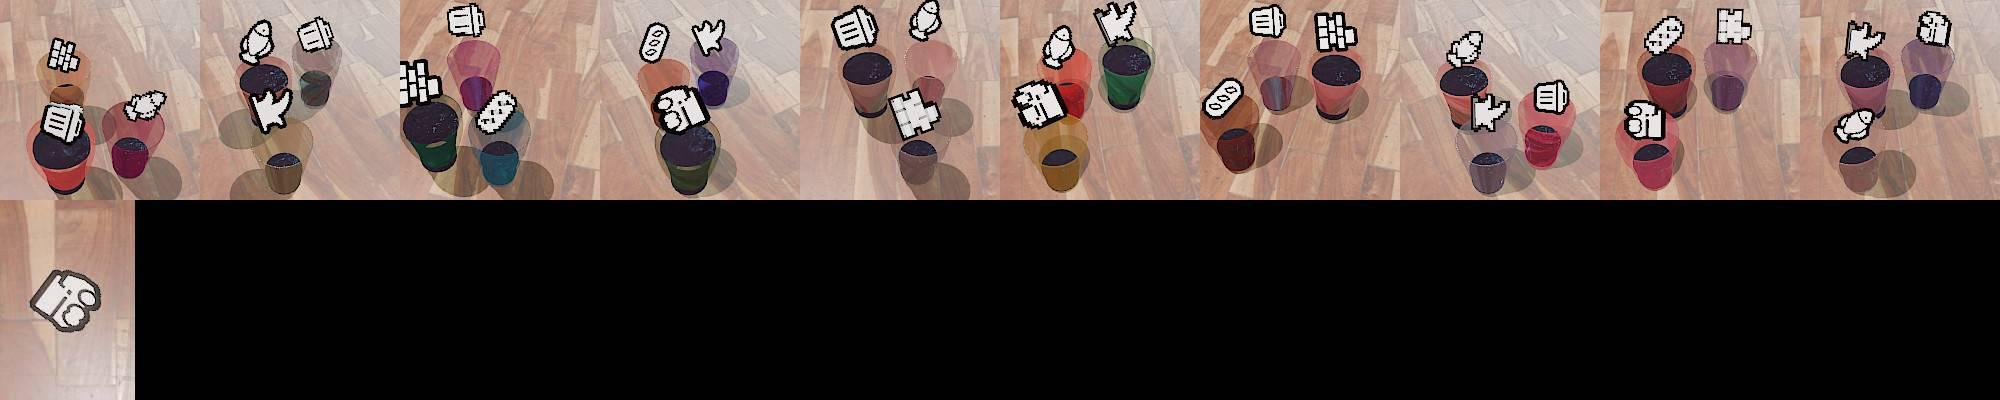icon: (29, 268, 102, 334), (652, 84, 712, 136), (886, 88, 943, 140), (1011, 79, 1066, 130), (830, 5, 879, 52), (399, 57, 444, 108), (247, 85, 293, 134), (41, 99, 87, 145), (1093, 1, 1138, 47), (474, 88, 518, 135), (1315, 9, 1357, 52), (1203, 76, 1245, 118), (1644, 14, 1686, 56), (1469, 90, 1511, 132), (1625, 98, 1666, 140), (239, 19, 274, 66), (1844, 19, 1885, 59), (1834, 107, 1878, 143), (1041, 24, 1075, 69), (445, 3, 486, 39), (690, 18, 727, 59), (297, 15, 335, 54), (1714, 6, 1751, 46), (908, 0, 943, 42), (124, 89, 168, 121), (1916, 10, 1953, 48), (639, 20, 671, 64), (1533, 78, 1570, 115), (1446, 31, 1483, 68), (1249, 4, 1287, 39), (47, 37, 79, 74)
